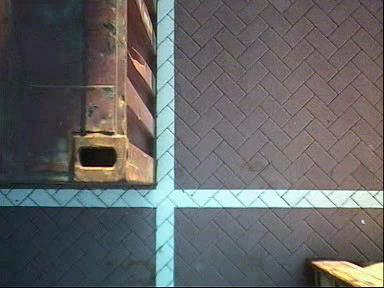groundmarker_2: (58, 195, 139, 245)
